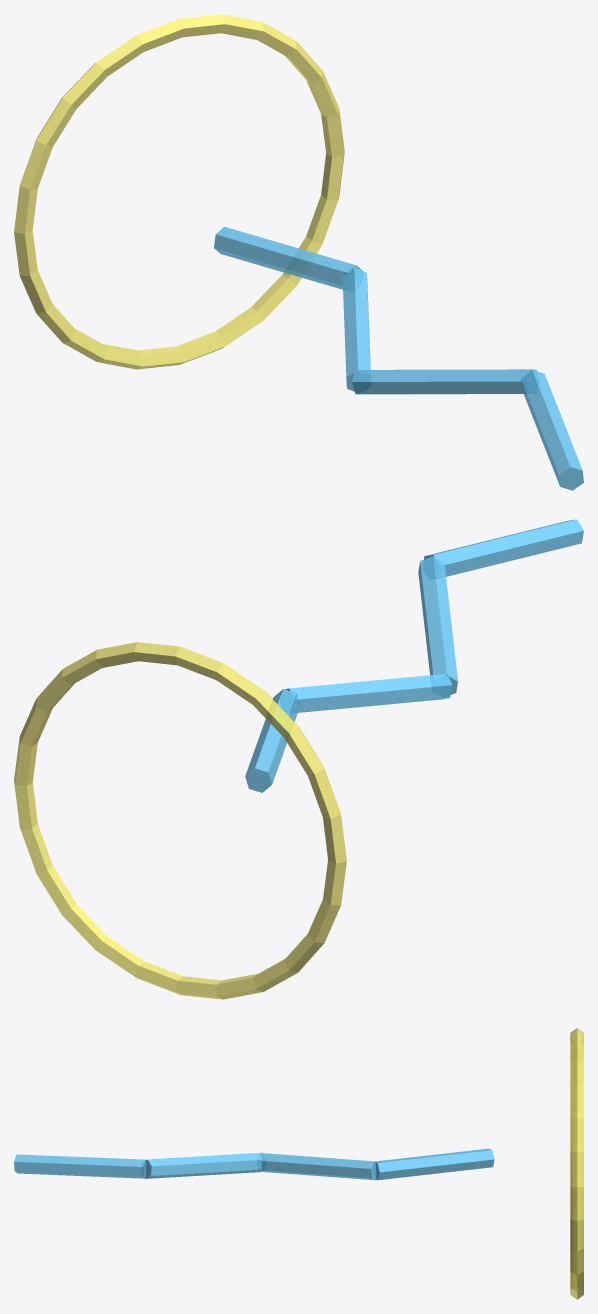
Rendered from vfx_lightning_bolt.glb.
3 views of the same model, one above another, from view 1: azimuth 30°, elevation 25°; view 2: azimuth 150°, elevation 25°; view 3: azimuth 270°, elevation 25° (orthographic). The views are drawn at different scales.
Parts seen in each view (by area): view 1: impact, bolt_1, bolt_3, bolt_0, bolt_2; view 2: impact, bolt_2, bolt_0, bolt_1, bolt_3; view 3: impact, bolt_0, bolt_3, bolt_1, bolt_2.
Part boxes in pixels (x1=…): impact: x1=14, y1=14, x2=344, y2=369; bolt_1: x1=352, y1=369, x2=536, y2=394; bolt_3: x1=214, y1=226, x2=362, y2=289; bolt_0: x1=521, y1=370, x2=583, y2=490; bolt_2: x1=342, y1=267, x2=370, y2=391; impact: x1=14, y1=642, x2=346, y2=999; bolt_2: x1=285, y1=673, x2=452, y2=712; bolt_0: x1=424, y1=519, x2=583, y2=576; bolt_1: x1=418, y1=556, x2=457, y2=694; bolt_3: x1=245, y1=689, x2=299, y2=792; impact: x1=570, y1=1028, x2=583, y2=1299; bolt_0: x1=14, y1=1154, x2=146, y2=1178; bolt_3: x1=375, y1=1148, x2=494, y2=1180; bolt_1: x1=145, y1=1152, x2=262, y2=1178; bolt_2: x1=260, y1=1153, x2=377, y2=1180.
Bounding box in the file's own units: 0.95 × 0.95 × 1.98.
